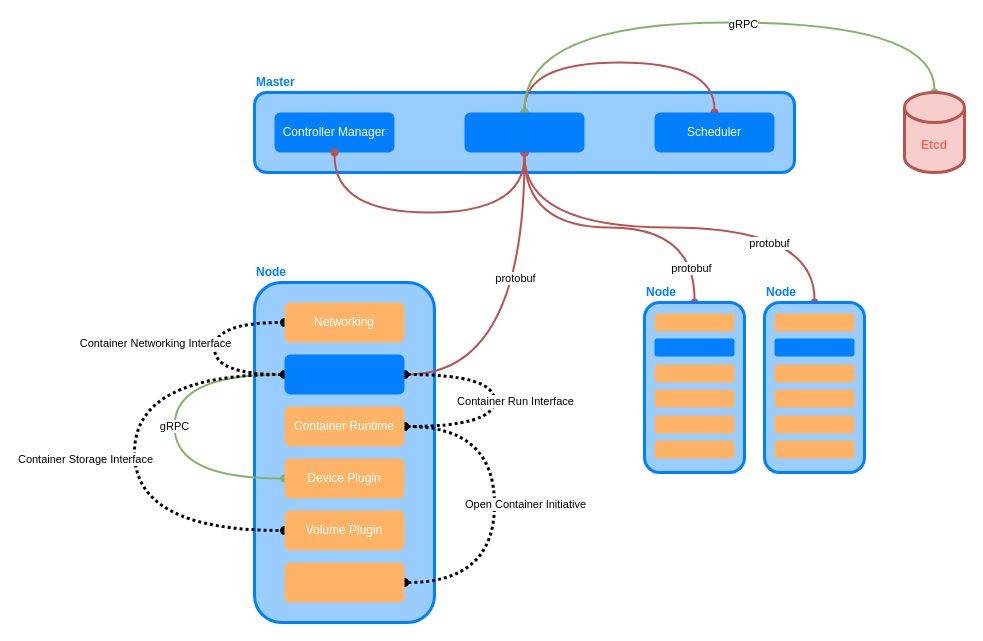
Image size: 983x641. Some labels were removed from this diagram. The centre of each missing label's shape, as x and y in pixels:
API Server: pixel 524 132
kublet: pixel 344 374
Linux OS: pixel 344 582
